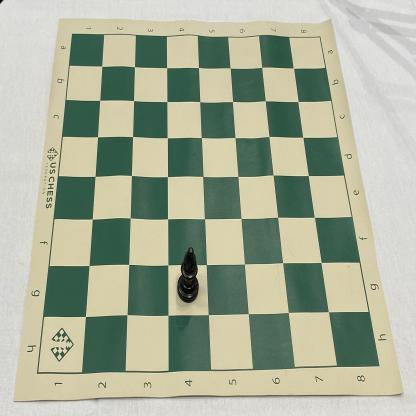black-bishop: (177, 248, 199, 303)
